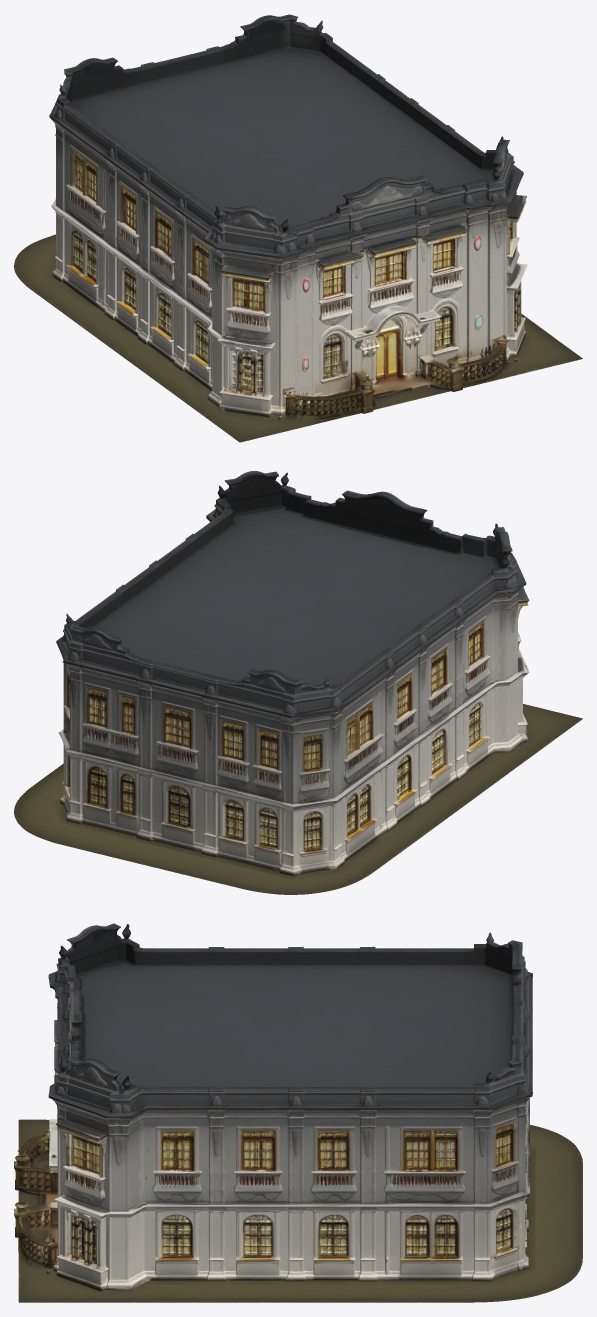
The model's file is LopezMansion.glb.
3 views of the same model, one above another, from view 1: azimuth 30°, elevation 25°; view 2: azimuth 150°, elevation 25°; view 3: azimuth 270°, elevation 25° (orthographic). The views are drawn at different scales.
Size of the model in its own units: 0.6937 by 0.3904 by 0.9146.
1 material, 1 textured.
